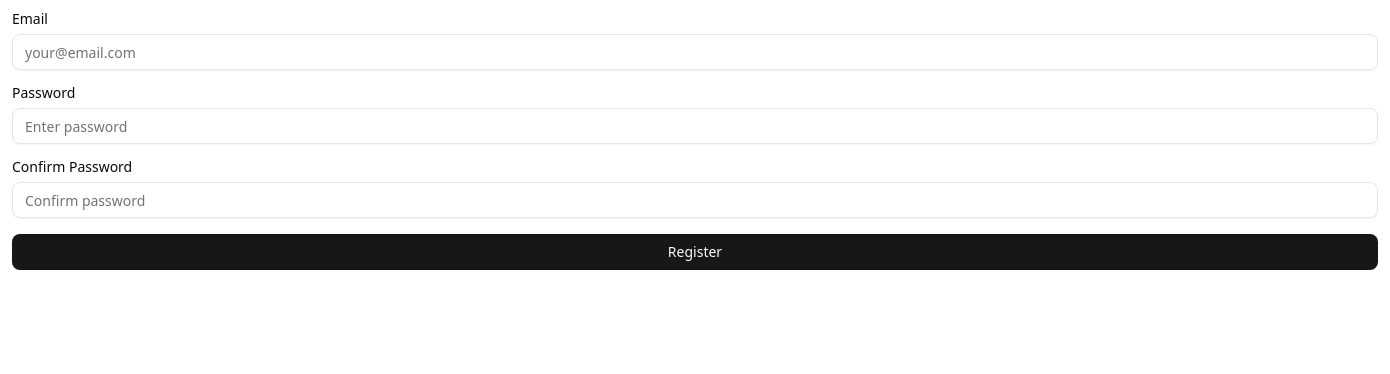
it: RegisterForm › validates password minimum length
Type "12345" into the password field labelled "Password". click: (695, 126)
box: [12,108,1378,144]
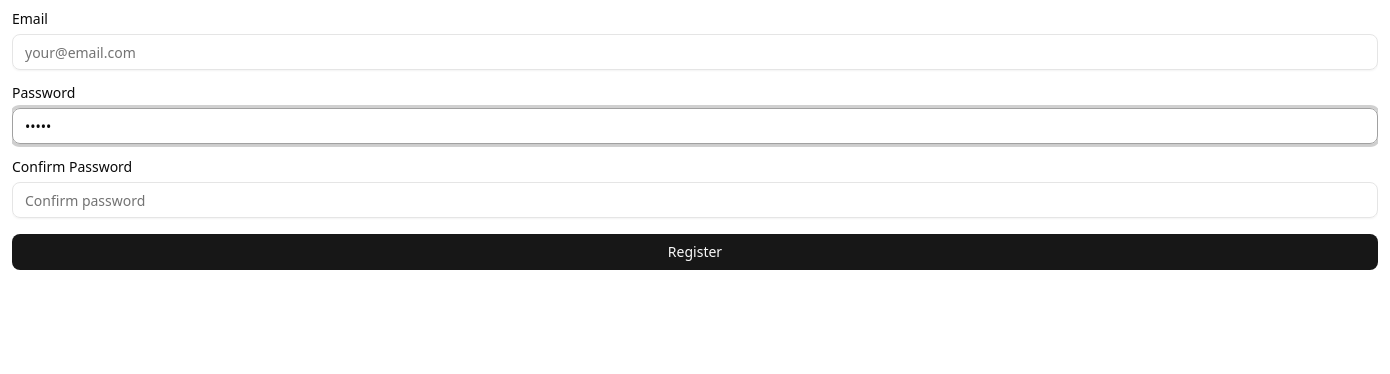
Click the button "Register". click: (695, 252)
box: [12,234,1378,270]
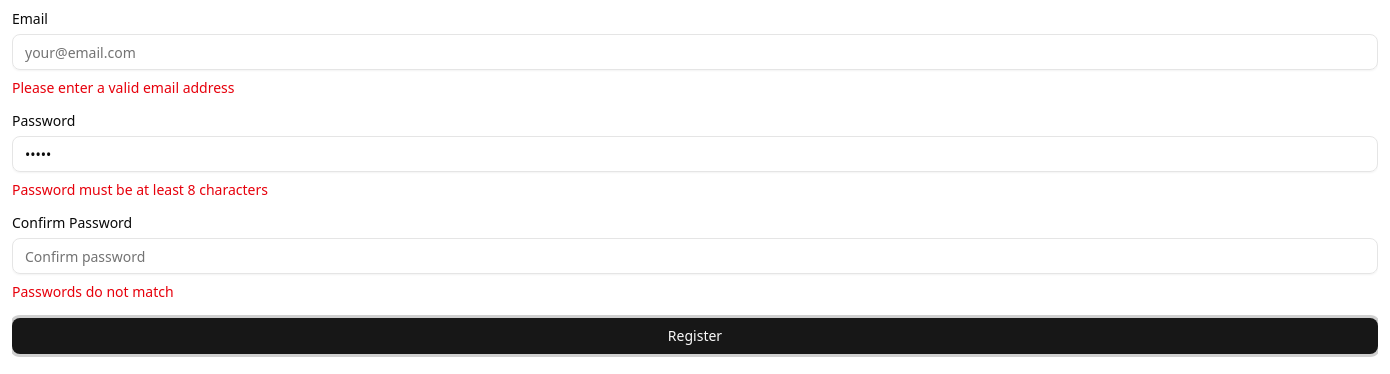
Result: the text "Password must be at least 8 characters" is shown at [12,180,268,199]
